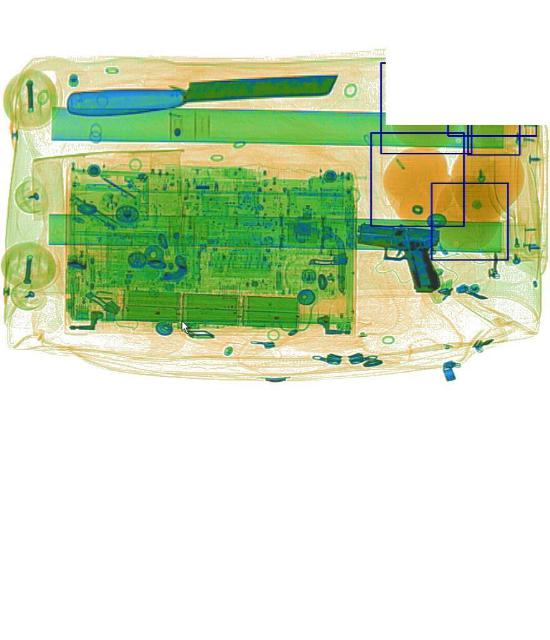Gun: (351, 218, 441, 292)
Knife: (66, 74, 338, 114)
